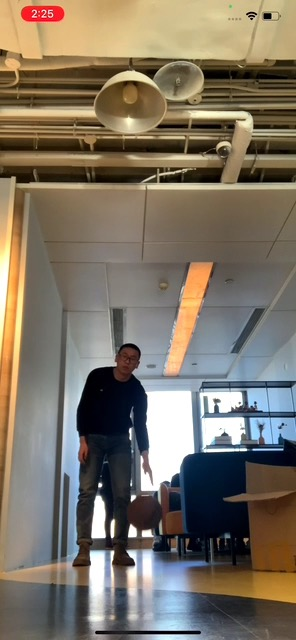ball: (126, 494, 164, 530)
